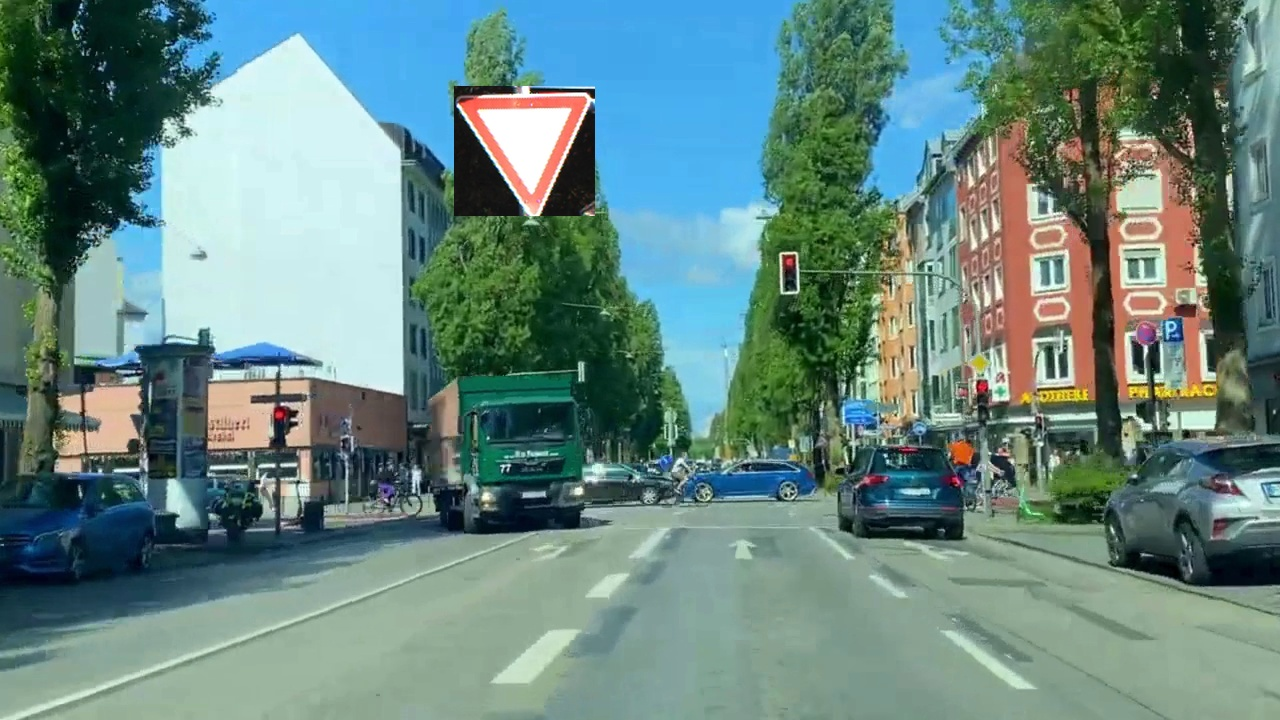Yield: (454, 86, 595, 216)
